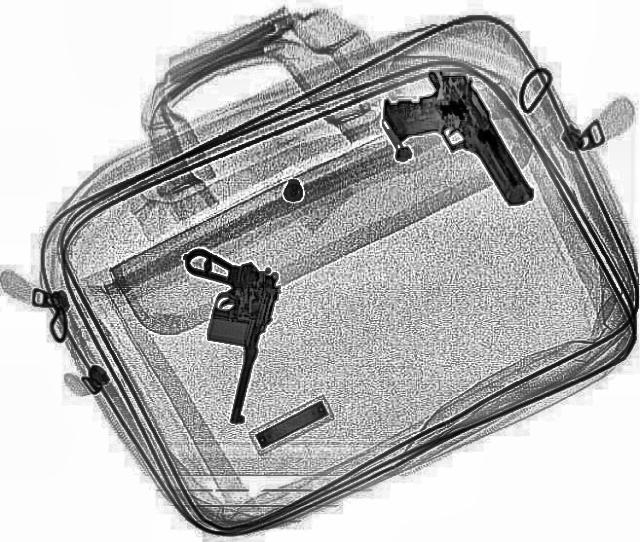Gun: (366, 60, 540, 228), (144, 244, 288, 426)
